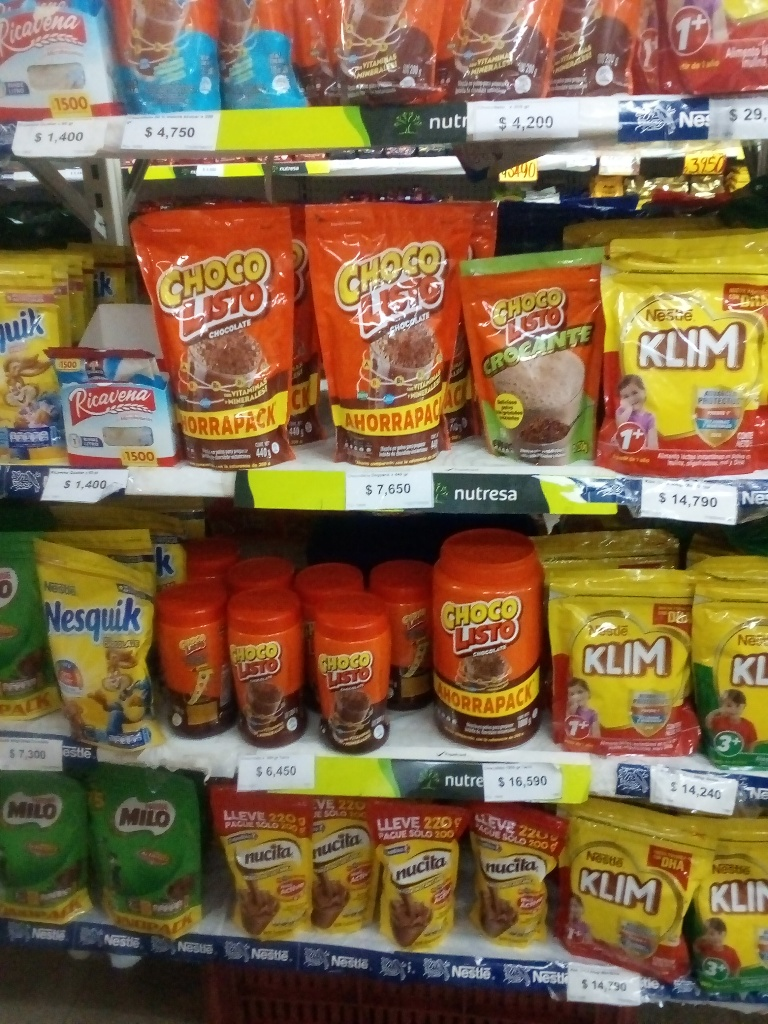COL0170102DYP25000: (460, 245, 613, 470)
COL0170103DYP44000: (130, 206, 302, 473)
COL0170103TRR00100: (433, 518, 543, 742)
COL0170103TRR30000: (158, 586, 230, 736)
COL0170203DYP25000: (1, 525, 45, 717)
COL0170203DYP50000: (87, 766, 206, 945)
COL0170303DYP20000: (37, 536, 166, 753)
COL0170305DYP20000: (2, 248, 71, 459)
